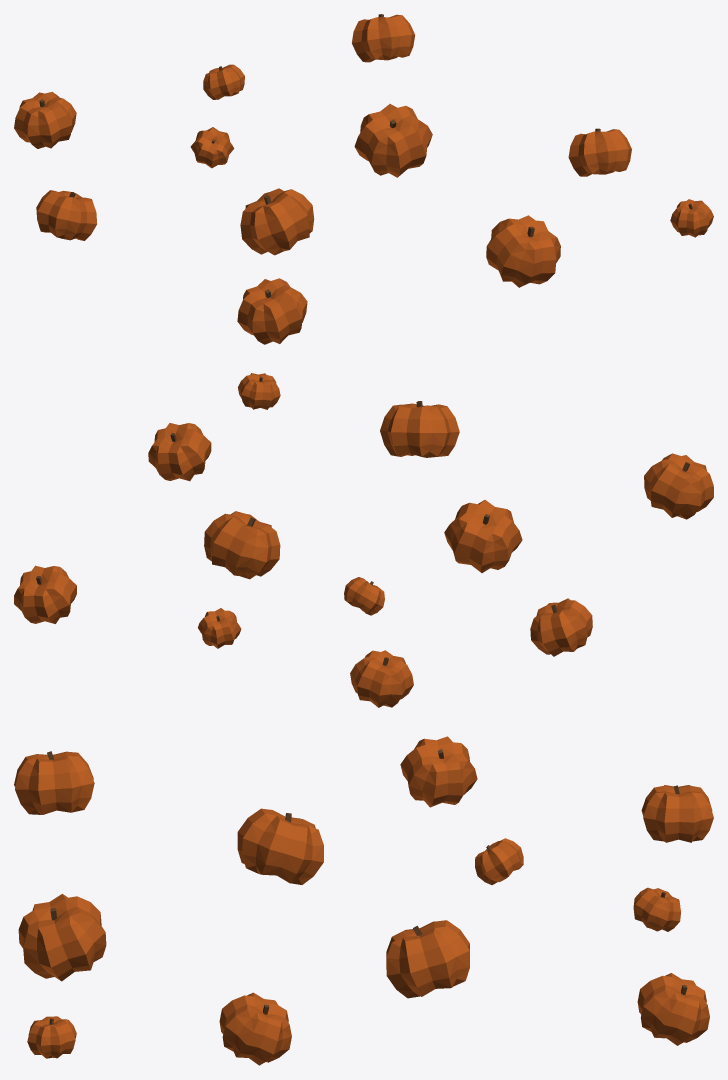
Rendered from Planted_Pumpkin.fbx.
3 renders of one model, top to bottom at view 1: azimuth 30°, elevation 25°; view 2: azimuth 150°, elevation 25°; view 3: azimuth 270°, elevation 25°, orthographic. The views are drawn at different scales.
Visible parts, largest first — view 1: Planted_Pumpkin; view 2: Planted_Pumpkin; view 3: Planted_Pumpkin.
Boxes of the visible parts, bbox=[...] form: Planted_Pumpkin: bbox=[14, 14, 713, 344]; Planted_Pumpkin: bbox=[14, 373, 713, 707]; Planted_Pumpkin: bbox=[14, 736, 713, 1065].
Size of the model in its own units: 81.66 by 10.37 by 81.15.
